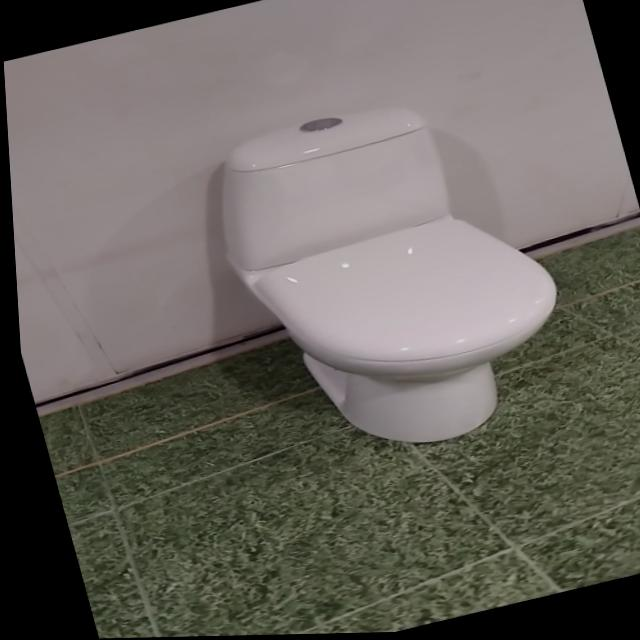toilet: (180, 64, 603, 487)
